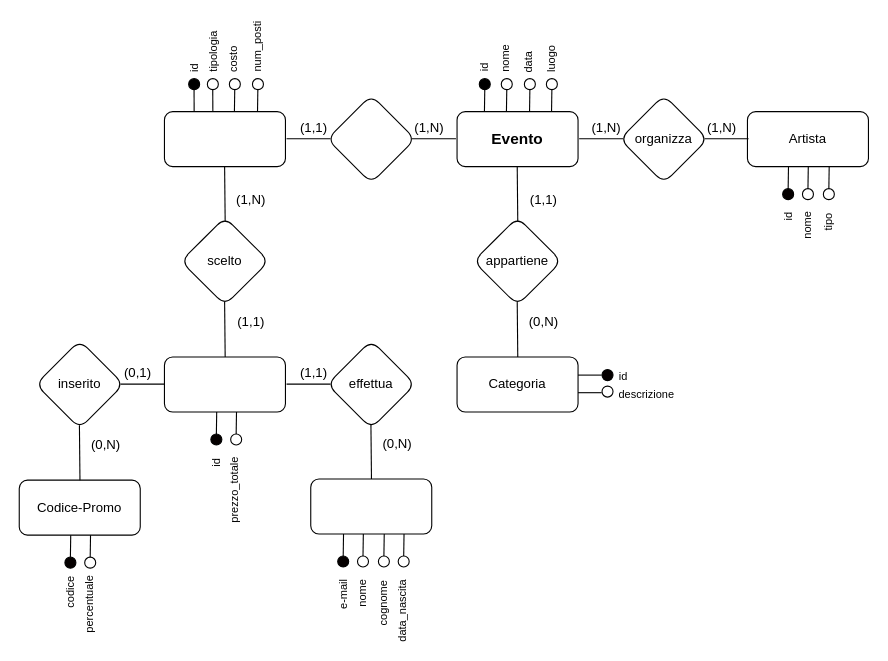
Image size: 888x661. Some labels were removed from this diagram. The shapes that lost their labels are listed below. From the top down, each one's centre as x and y in pixels, then its label:
[224,139]: Pacchetti
[370,138]: dispone
[224,384]: Acquisto
[371,506]: Utente
